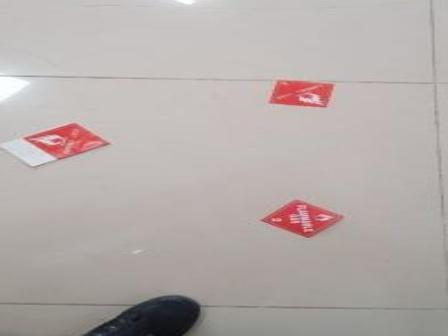flammable: (256, 198, 348, 238), (22, 122, 112, 159), (267, 76, 337, 109)
